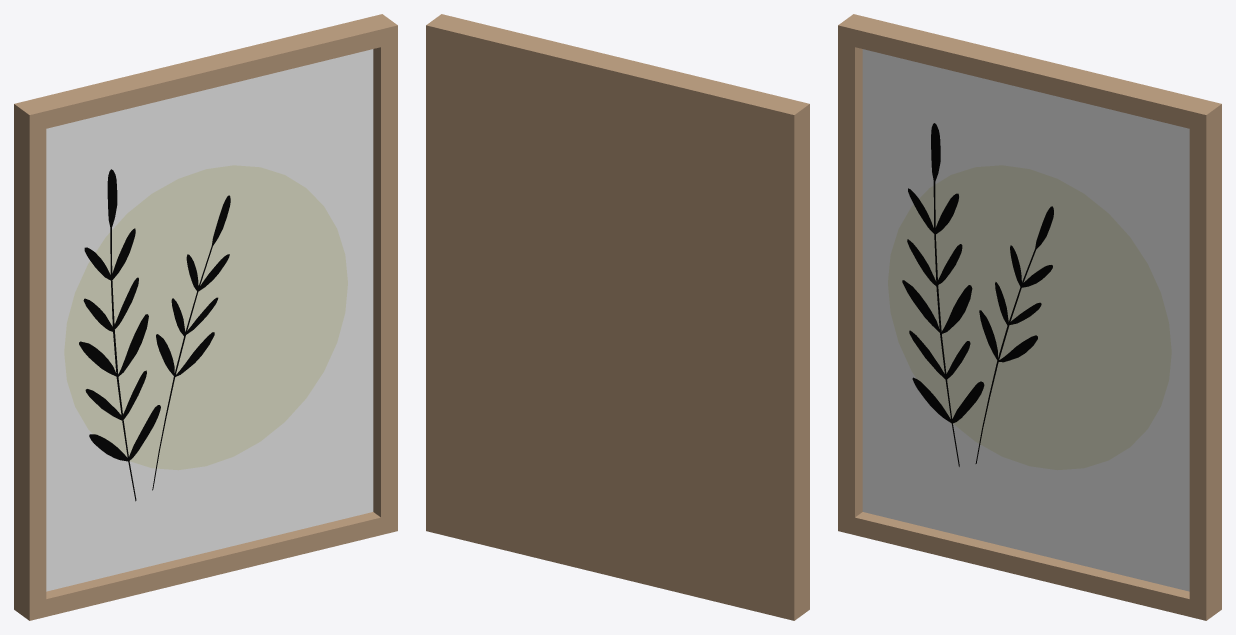
File: bothel.fbx
The picture shows the model from 3 angles, left to right: view 1: azimuth 30°, elevation 25°; view 2: azimuth 150°, elevation 25°; view 3: azimuth 330°, elevation 25°; orthographic projection.
Parts seen in each view (by area): view 1: Art3; view 2: Art3; view 3: Art3.
Boxes of the visible parts, <box> form: Art3: <box>14,14,397,620</box>; Art3: <box>426,14,809,620</box>; Art3: <box>838,14,1221,620</box>.
Bounding box in the file's own units: 13.93 × 1.02 × 18.28.
